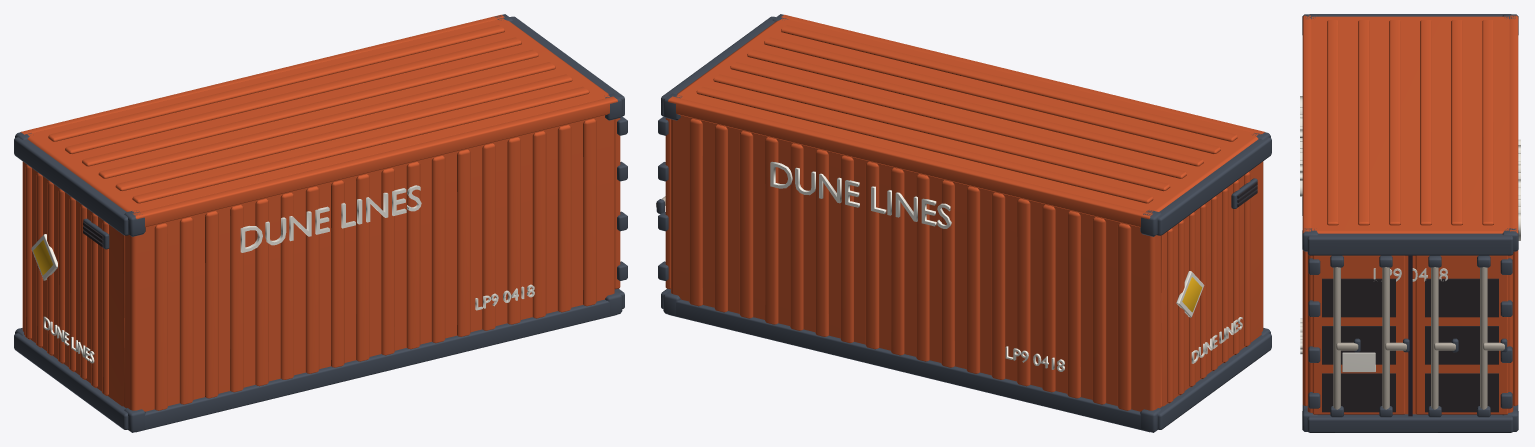
File: dune_container.glb
3 views of the same model, side by side, from view 1: azimuth 30°, elevation 25°; view 2: azimuth 150°, elevation 25°; view 3: azimuth 270°, elevation 25° (orthographic). The views are drawn at different scales.
Parts seen in each view (by area): view 1: Container; view 2: Container; view 3: Container.
Boxes of the visible parts, box(x1,y1,x2,y2) form: Container: box(14, 14, 627, 432); Container: box(656, 14, 1271, 432); Container: box(1300, 14, 1520, 432).
Size of the model in its own units: 6.48 by 2.64 by 2.62.
